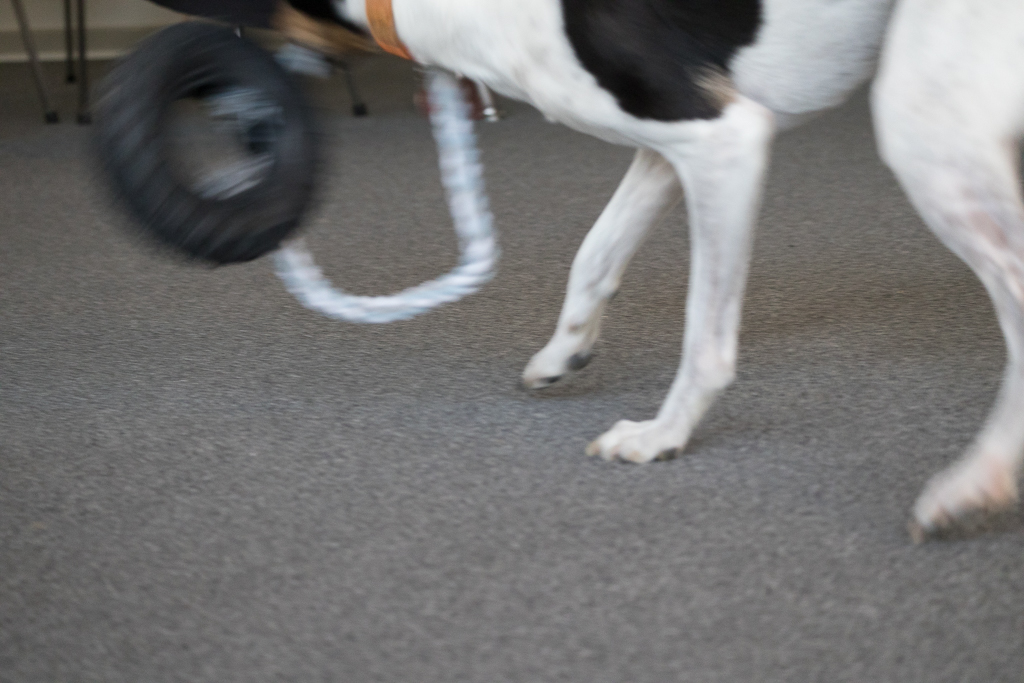Dog: (251, 0, 1024, 556)
